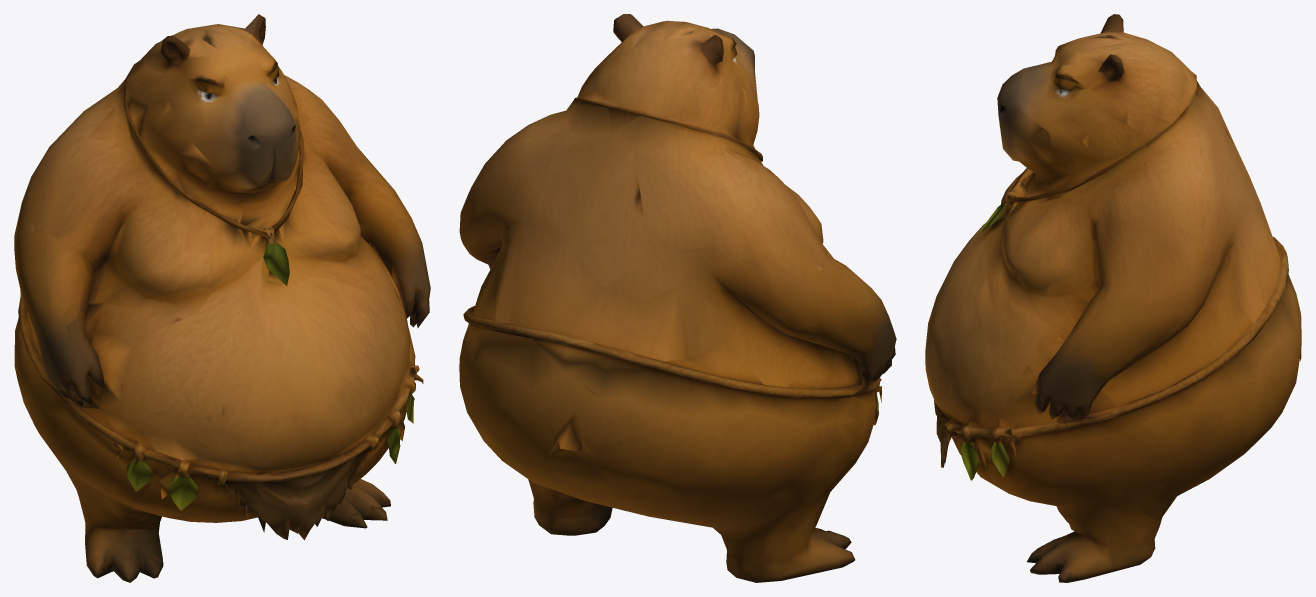
File: demo_ranger_01.glb
The picture shows the model from 3 angles, left to right: view 1: azimuth 30°, elevation 25°; view 2: azimuth 150°, elevation 25°; view 3: azimuth 270°, elevation 25°; orthographic projection. The views are drawn at different scales.
Parts seen in each view (by area): view 1: node_0; view 2: node_0; view 3: node_0.
Part boxes in pixels (x1=…): node_0: x1=14, y1=14, x2=430, y2=582; node_0: x1=459, y1=14, x2=896, y2=582; node_0: x1=925, y1=14, x2=1301, y2=582.
Size of the model in its own units: 0.7985 by 1.01 by 0.7177.
Materials: 1 (1 with a texture image).
